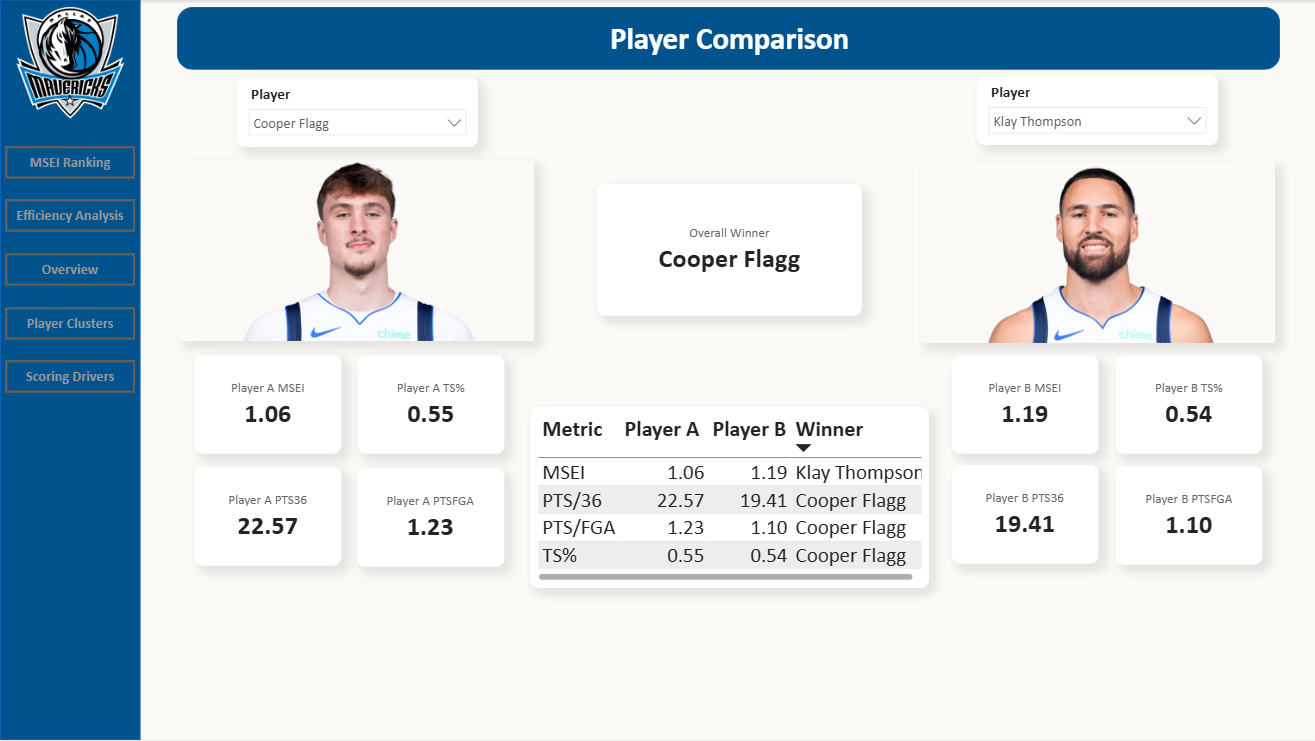

Layout of this report page (visuals, bound fields, positions):
{"tool":"powerbi","page":{"name":"Player Comparison","canvas":[1600,900],"ordinal":3},"visuals":[{"type":"shape","box":[0,0,170.7,900],"z":0},{"type":"image","box":[5.5,8.9,158.5,136.3],"z":1000},{"type":"actionButton","box":[5.5,177.3,158.5,39.9],"z":2000},{"type":"actionButton","box":[5.5,242.5,158.5,39.9],"z":3000},{"type":"actionButton","box":[5.5,307.6,158.5,39.9],"z":4000},{"type":"actionButton","box":[5.5,372.7,158.5,39.9],"z":5000},{"type":"actionButton","box":[5.5,437.8,158.5,39.9],"z":6000},{"type":"cardVisual","fields":{"Data":["Player A.Player A MSEI"]},"box":[237.1,431.6,177.5,120.4],"z":7000},{"type":"cardVisual","fields":{"Data":["Player B.Player B MSEI"]},"box":[1157.4,431.6,177.5,120.4],"z":8000},{"type":"slicer","fields":{"Values":["Player A.Player"]},"box":[288.1,93.6,293,85.1],"z":9000},{"type":"slicer","fields":{"Values":["Player B.Player"]},"box":[1187.8,91.2,293,85.1],"z":10000},{"type":"cardVisual","fields":{"Data":["Player A.Player A PTS36"]},"box":[237.1,567.8,177.5,120.4],"z":11000},{"type":"cardVisual","fields":{"Data":["Player A.Player A TS%"]},"box":[435.3,431.6,177.5,120.4],"z":12000},{"type":"cardVisual","fields":{"Data":["Player A.Player A PTSFGA"]},"box":[434,569,178.7,120.4],"z":13000},{"type":"cardVisual","fields":{"Data":["Player B.Player B PTSFGA"]},"box":[1356.8,566.6,177.5,120.4],"z":14000},{"type":"cardVisual","fields":{"Data":["Player B.Player B PTS36"]},"box":[1157.4,565.3,177.5,120.4],"z":15000},{"type":"cardVisual","fields":{"Data":["Player B.Player B TS%"]},"box":[1356.8,431.6,177.5,120.4],"z":16000},{"type":"image","box":[218.8,194.5,430.4,220.1],"z":17000},{"type":"image","box":[1119.8,197,430.4,220.1],"z":18000},{"type":"tableEx","fields":{"Values":["Comparison Metrics.Metric","Comparison Metrics.Player A Comparison Value","Comparison Metrics.Player B Comparison Value","Comparison Metrics.Winner"]},"box":[644.4,494.8,485.1,220.1],"z":19000},{"type":"cardVisual","fields":{"Data":["Comparison Metrics.Overall Winner"]},"box":[725.8,223.7,322.2,160.5],"z":20000},{"type":"shape","box":[215,8.9,1341.1,76.5],"z":21000},{"type":"textbox","box":[227.2,17.7,1319,59.9],"z":22000}]}

Visuals, with their boxes in screenshot pixels (x1, y1, x2, y2), scaled from the page's 1600x900 canvas onto the 1315x741 screenshot:
shape: detection(0, 0, 140, 740)
image: detection(5, 7, 135, 120)
actionButton: detection(5, 146, 135, 179)
actionButton: detection(5, 200, 135, 233)
actionButton: detection(5, 253, 135, 286)
actionButton: detection(5, 307, 135, 340)
actionButton: detection(5, 360, 135, 393)
cardVisual - Player A.Player A MSEI: detection(195, 355, 341, 454)
cardVisual - Player B.Player B MSEI: detection(951, 355, 1097, 454)
slicer - Player A.Player: detection(237, 77, 478, 147)
slicer - Player B.Player: detection(976, 75, 1217, 145)
cardVisual - Player A.Player A PTS36: detection(195, 467, 341, 567)
cardVisual - Player A.Player A TS%: detection(358, 355, 504, 454)
cardVisual - Player A.Player A PTSFGA: detection(357, 468, 504, 568)
cardVisual - Player B.Player B PTSFGA: detection(1115, 467, 1261, 566)
cardVisual - Player B.Player B PTS36: detection(951, 465, 1097, 565)
cardVisual - Player B.Player B TS%: detection(1115, 355, 1261, 454)
image: detection(180, 160, 534, 341)
image: detection(920, 162, 1274, 343)
tableEx - Comparison Metrics.Metric x Comparison Metrics.Player A Comparison Value: detection(530, 407, 928, 589)
cardVisual - Comparison Metrics.Overall Winner: detection(597, 184, 861, 316)
shape: detection(177, 7, 1279, 70)
textbox: detection(187, 15, 1271, 64)
